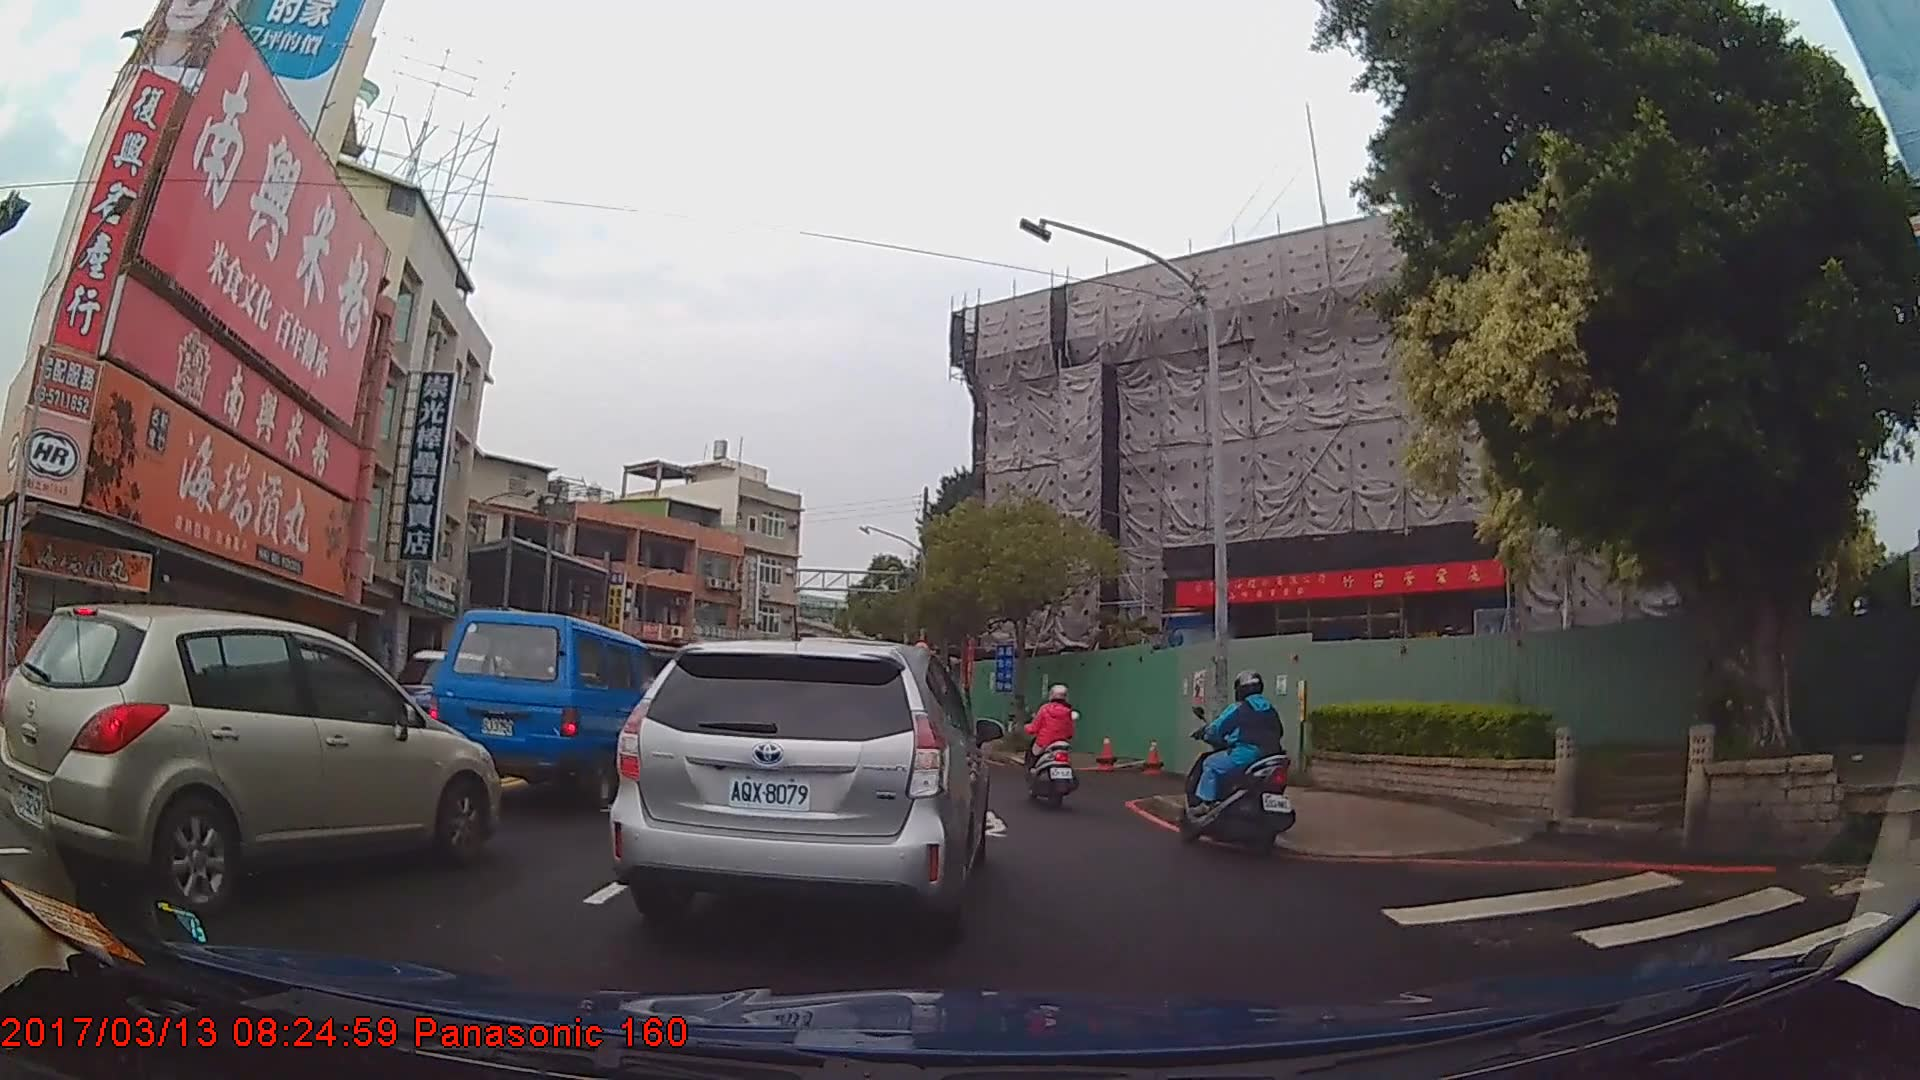rider: (1181, 671, 1299, 852), (1019, 684, 1077, 801)
vehicle: (0, 598, 500, 917), (606, 631, 988, 946), (430, 607, 674, 809)
